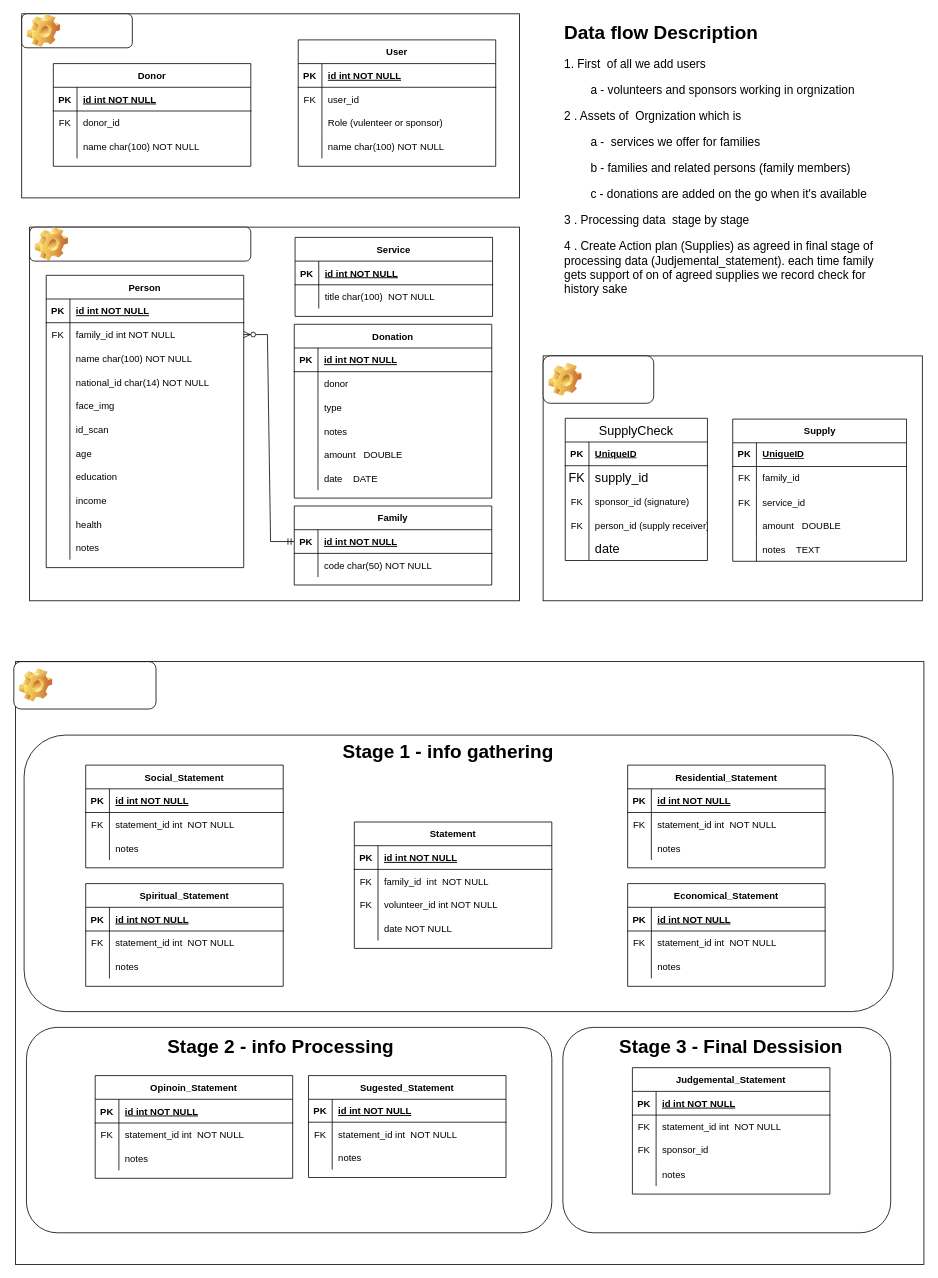
Image size: 938x1278. Some labels were removed from this diagram. Here are the shapes that lost their labels. From the top down, the centre of each, then its label:
At point 76,30: "USERS".
At point 140,243: "Orgniztion Assets".
At point 598,379: "Action".
At point 84,685: "Process".
